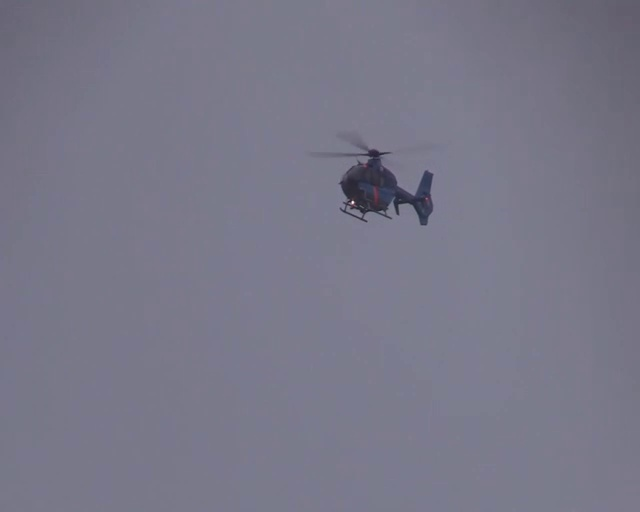HELICOPTER: (305, 128, 440, 226)
